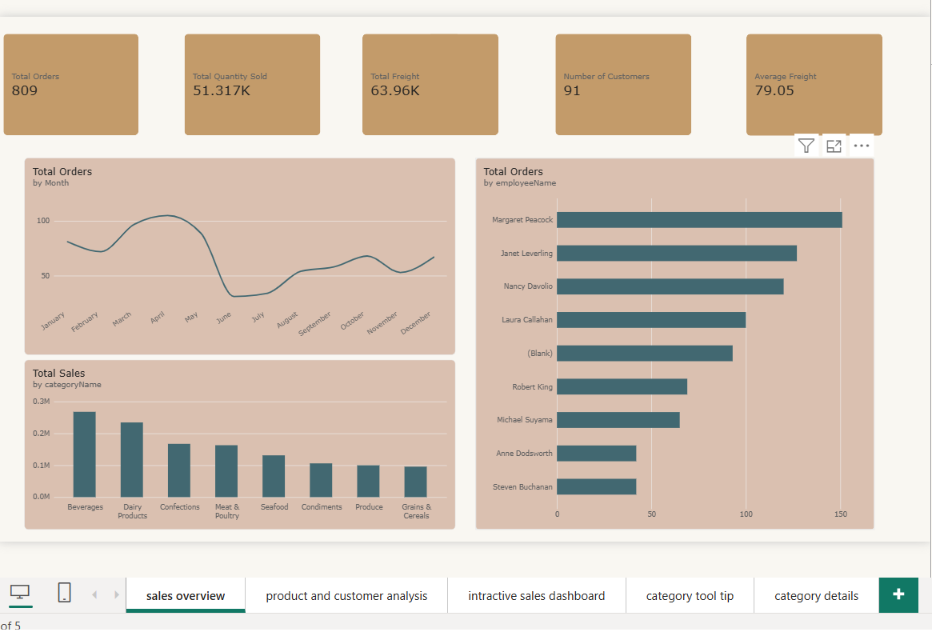

The dashboard page shown, as its layout file describes it:
{"tool":"powerbi","page":{"name":"sales overview","canvas":[1920,1080],"ordinal":0},"visuals":[{"type":"cardVisual","fields":{"Data":["orders.Total Orders"]},"box":[10.9,34.4,278.7,209.9],"z":0},{"type":"cardVisual","fields":{"Data":["orders.Total Freight"]},"box":[749.2,34.4,280.5,209.9],"z":1000},{"type":"cardVisual","fields":{"Data":["customers.Number of Customers"]},"box":[1147.3,34.4,280.5,209.9],"z":2000},{"type":"cardVisual","fields":{"Data":["orders.Average Freight"]},"box":[1540,34.4,280,210],"z":3000},{"type":"cardVisual","fields":{"Data":["Order Details.Total Quantity Sold"]},"box":[383.6,34.4,280.5,209.9],"z":4000},{"type":"lineChart","fields":{"Y":["orders.Total Orders"],"Category":["orders.requiredDate.Variation.Date Hierarchy.Month"]},"box":[10.9,289.5,818,405.4],"z":5000},{"type":"clusteredColumnChart","fields":{"Y":["orders.Total Sales"],"Category":["categories.categoryName"]},"box":[11,705,818,375],"z":6000},{"type":"clusteredBarChart","fields":{"Y":["orders.Total Orders"],"Category":["employees.employeeName"]},"box":[890.4,311.3,649.7,765.5],"z":7000}]}

Visuals, with their boxes on the page's 1920x1080 design canvas (x1, y1, x2, y2). These are canvas units, not pixel positions in the 932x630 screenshot, which may show the page scaled, cropped or inside an application window:
cardVisual - orders.Total Orders: x1=11 y1=34 x2=290 y2=244
cardVisual - orders.Total Freight: x1=749 y1=34 x2=1030 y2=244
cardVisual - customers.Number of Customers: x1=1147 y1=34 x2=1428 y2=244
cardVisual - orders.Average Freight: x1=1540 y1=34 x2=1820 y2=244
cardVisual - Order Details.Total Quantity Sold: x1=384 y1=34 x2=664 y2=244
lineChart - orders.Total Orders x orders.requiredDate.Variation.Date Hierarchy.Month: x1=11 y1=290 x2=829 y2=695
clusteredColumnChart - orders.Total Sales x categories.categoryName: x1=11 y1=705 x2=829 y2=1080
clusteredBarChart - orders.Total Orders x employees.employeeName: x1=890 y1=311 x2=1540 y2=1077
